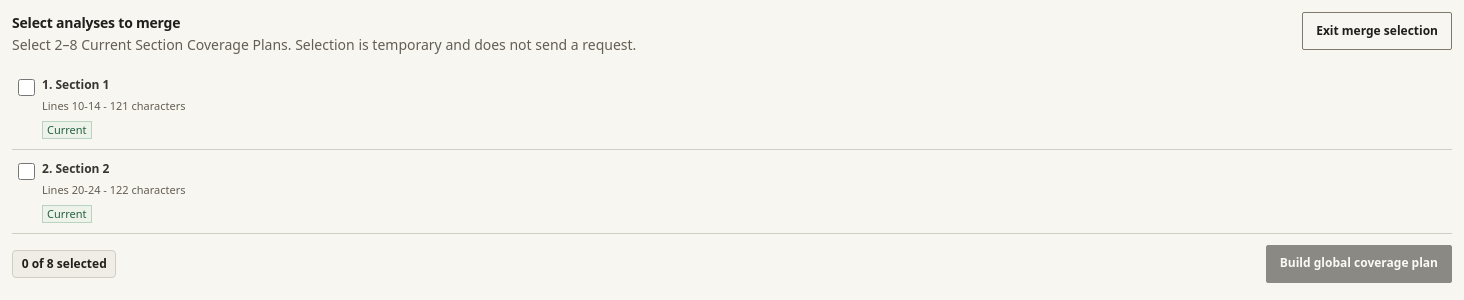
Scenario: GlobalCoverageMergeSelection › clears transient selection before leaving merge mode
Click the checkbox labelled "1. Section 1 Lines 10-14 - 121 characters Current" at (26, 87), box [18,79,35,96]
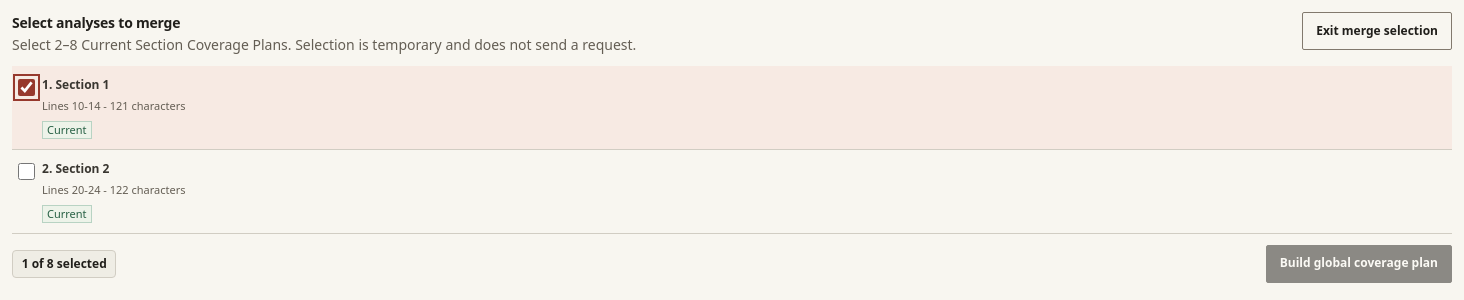
Result: the text "1 of 8 selected" is shown at [12,250,116,278]
Click the button "Exit merge selection" at (1377, 31), box [1302,12,1452,50]
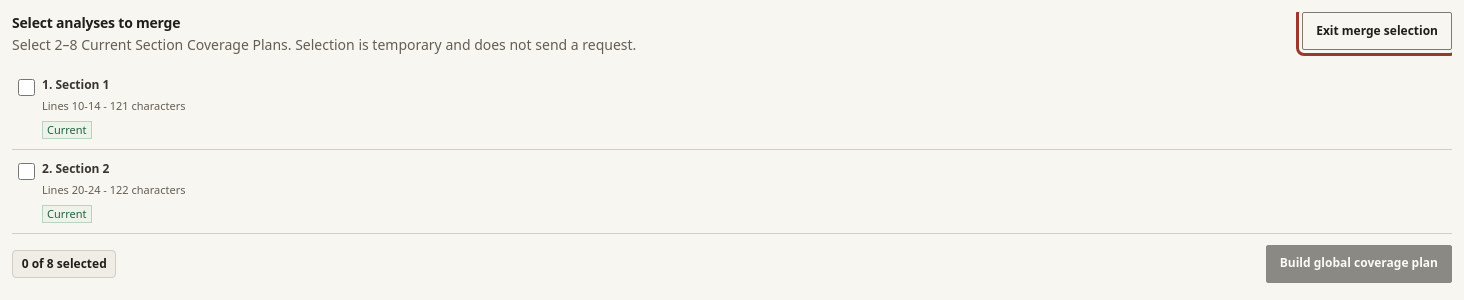
Result: the text "0 of 8 selected" is shown at [12,250,116,278]
